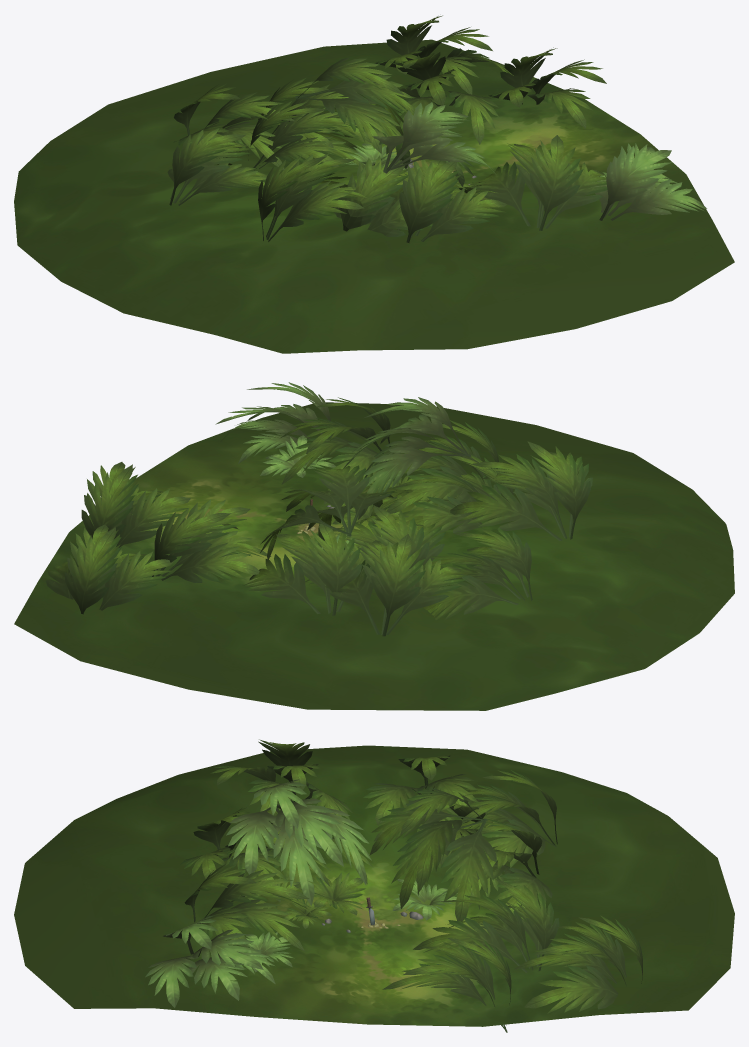
The model's file is wwwunderkammer_AhmedAnsari_Jungle.glb.
The picture shows the model from 3 angles, top to bottom: view 1: azimuth 30°, elevation 25°; view 2: azimuth 150°, elevation 25°; view 3: azimuth 270°, elevation 25°; orthographic projection.
Visible parts, largest first — view 1: polySurface1; view 2: polySurface1; view 3: polySurface1.
Part boxes in pixels (<box>): polySurface1: <box>14,15,734,353</box>; polySurface1: <box>14,382,734,710</box>; polySurface1: <box>14,739,734,1032</box>.
Size of the model in its own units: 22.07 by 5.35 by 23.58.
2 materials, 2 textured.
